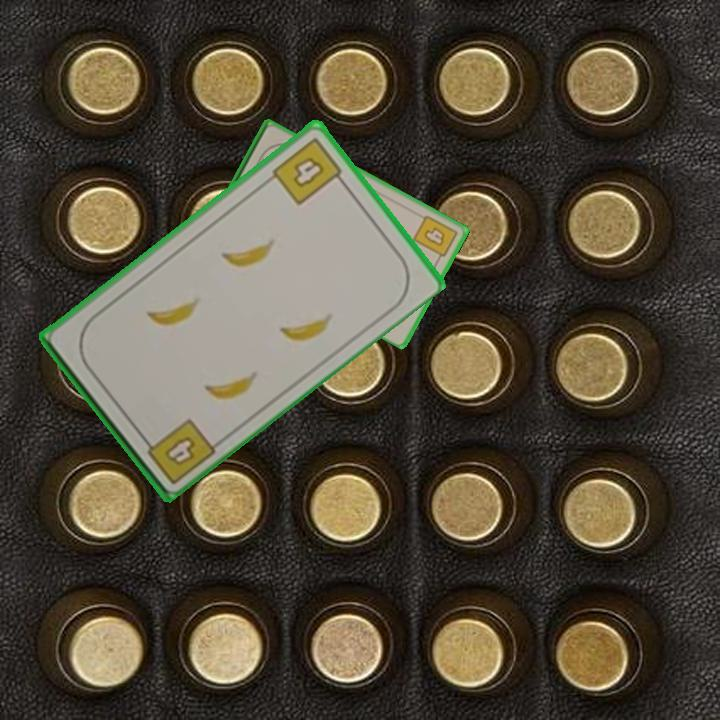4b: (268, 133, 349, 209), (137, 414, 218, 487), (409, 211, 461, 266)
